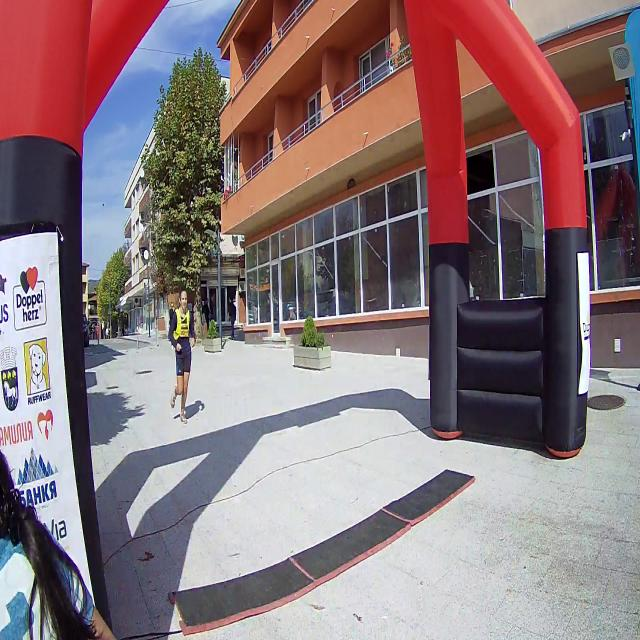runner: (167, 281, 200, 424)
